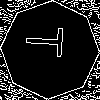T: (25, 25, 73, 58)
